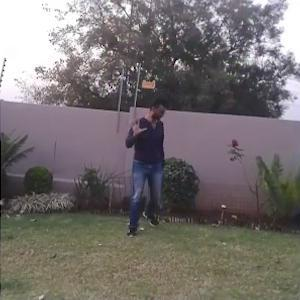follow_hand: (127, 109, 147, 139)
